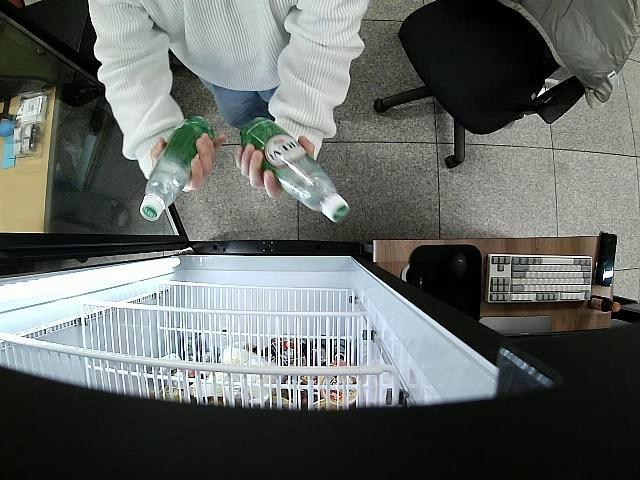18_trevi: (240, 115, 350, 224), (138, 115, 218, 220)
